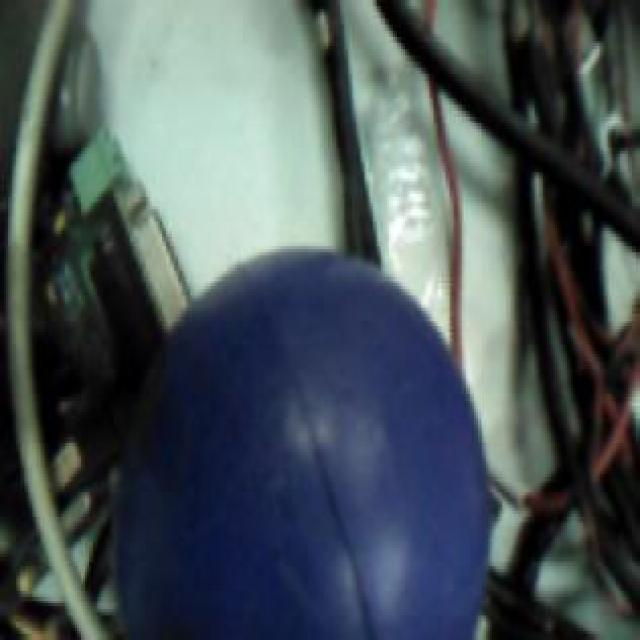BallPurple: (113, 252, 488, 640)
